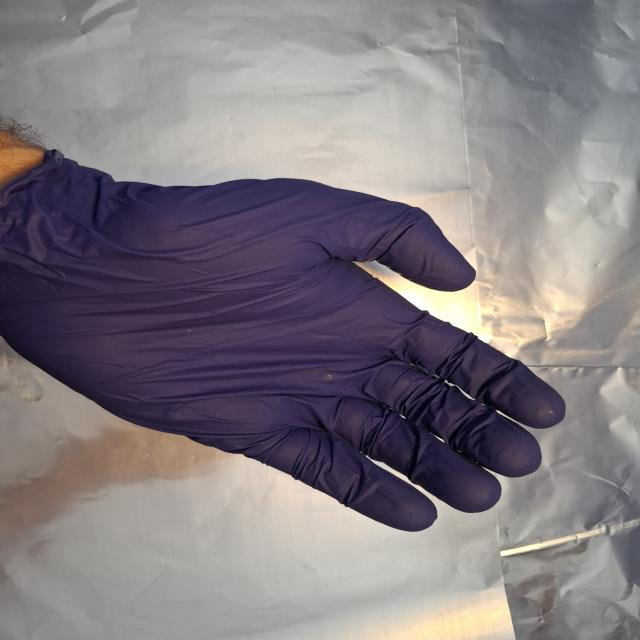glove_on: (0, 146, 573, 536)
